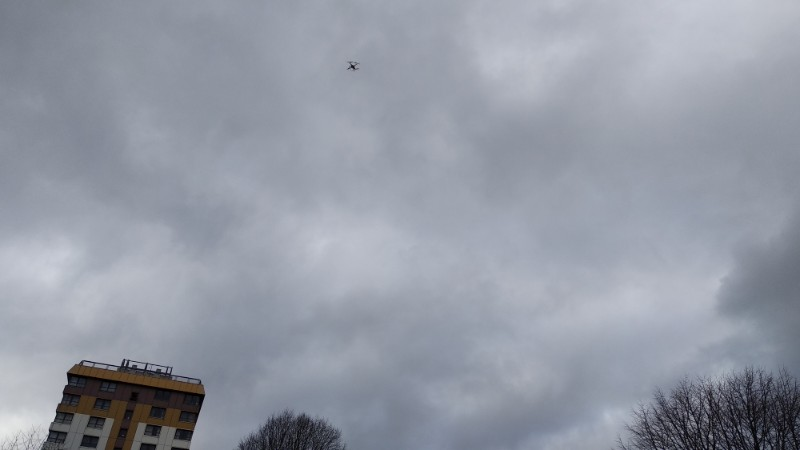drone: (346, 60, 360, 72)
